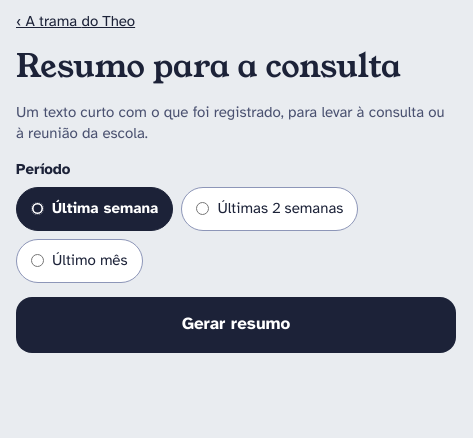
Test: outras falhas mostram a frase do spec
Click the button "Gerar resumo".
click(236, 325)  # box [16, 297, 456, 353]
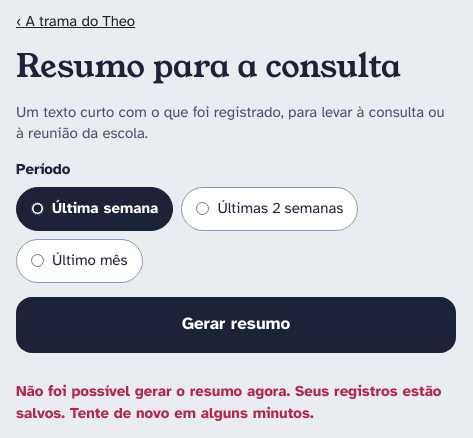
Now the text "Não foi possível gerar o resumo agora. Seus registros estão salvos. Tente de novo em alguns minutos." is shown, box [16, 382, 441, 422]
